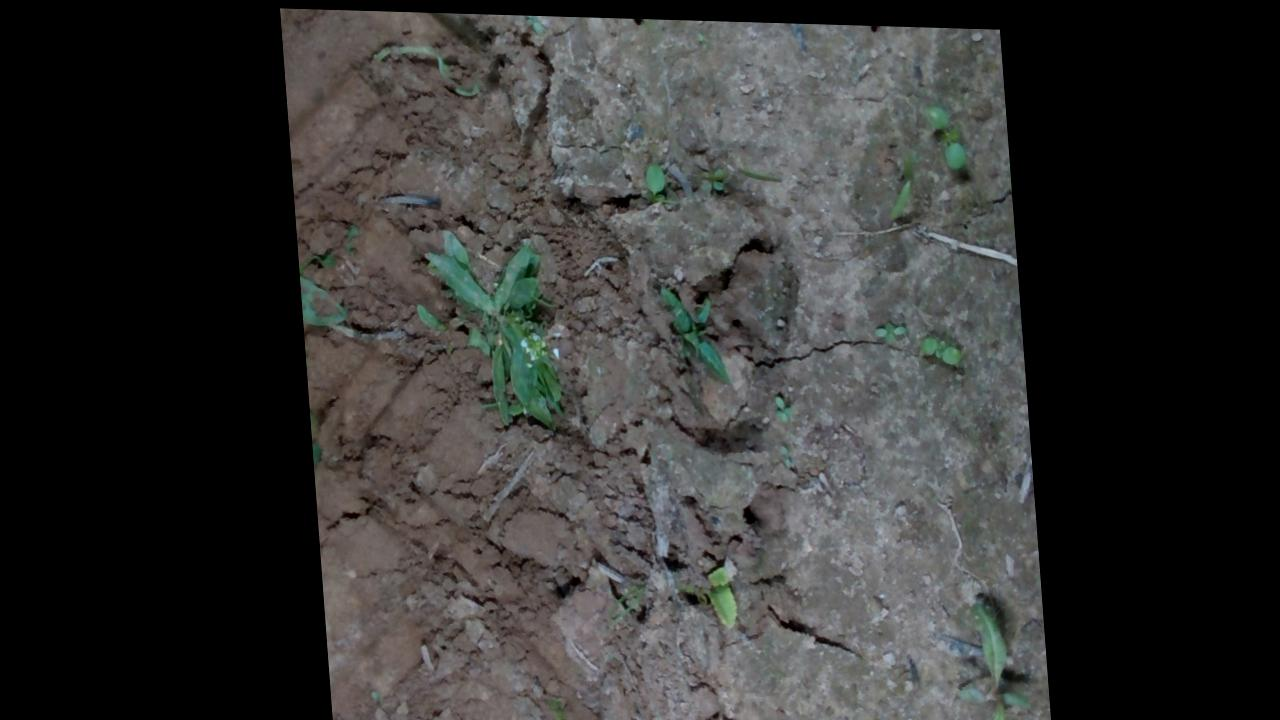weed: (921, 99, 964, 165), (911, 330, 957, 362), (865, 316, 901, 345), (766, 390, 786, 420), (771, 440, 786, 465)
